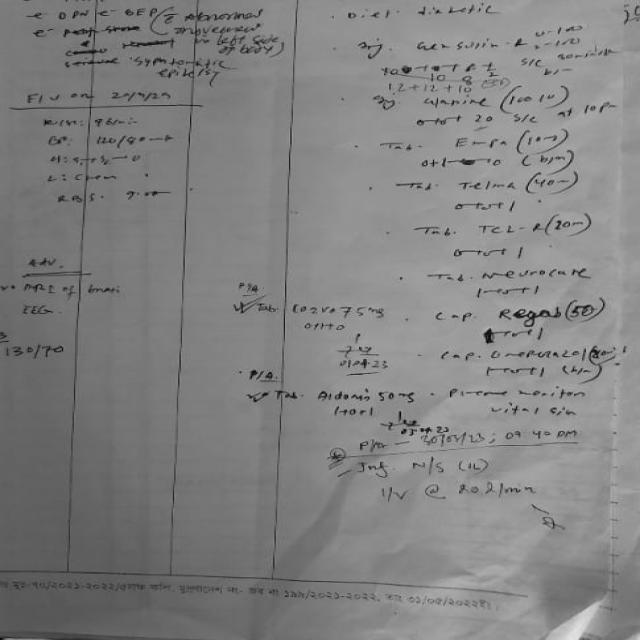medicine: (409, 34, 534, 58), (479, 265, 594, 283), (496, 302, 565, 330), (486, 344, 592, 362), (416, 92, 492, 114), (474, 220, 548, 240), (454, 177, 522, 197), (449, 133, 511, 153)
